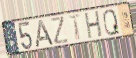5: (16, 21, 34, 51)
A: (34, 19, 55, 49)
H: (84, 10, 103, 41)
Q: (102, 8, 121, 37)
T: (68, 13, 82, 41)
Z: (49, 15, 71, 47)
